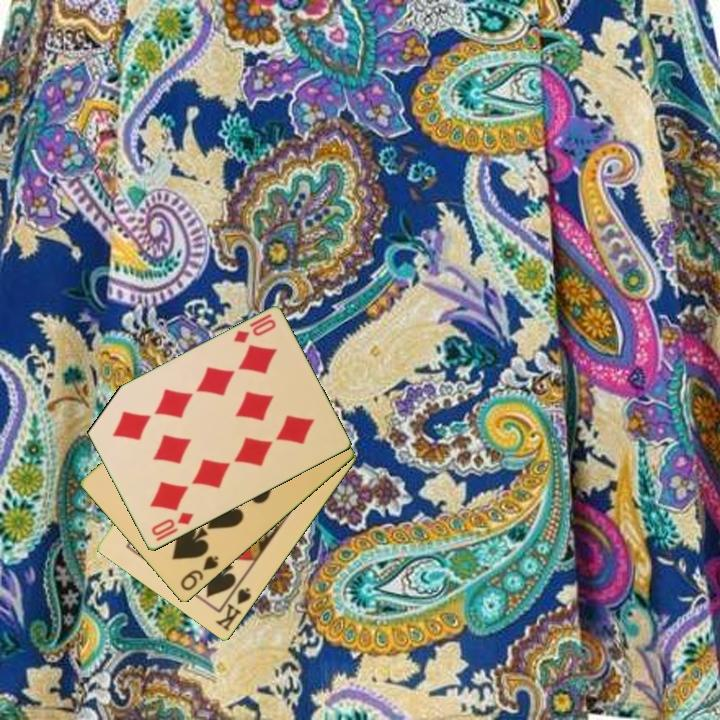10d: (148, 509, 197, 539), (230, 316, 279, 346)
9s: (177, 552, 222, 594)
Ks: (212, 584, 254, 634)
